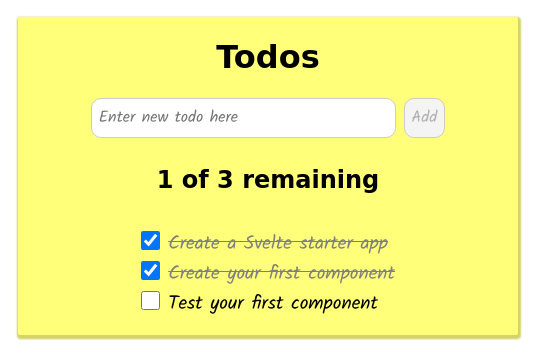
Scenario: App › should mark a todo as not done
This screenshot has width=539, height=357.
Click the checkbox named "Done" next to "Create a Svelte starter app": (151, 240) [141,231,160,250]
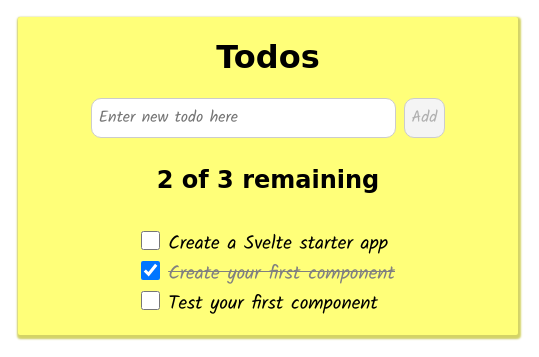
Expected: the heading "2 of 3 remaining" is shown, [157,166,379,194]
